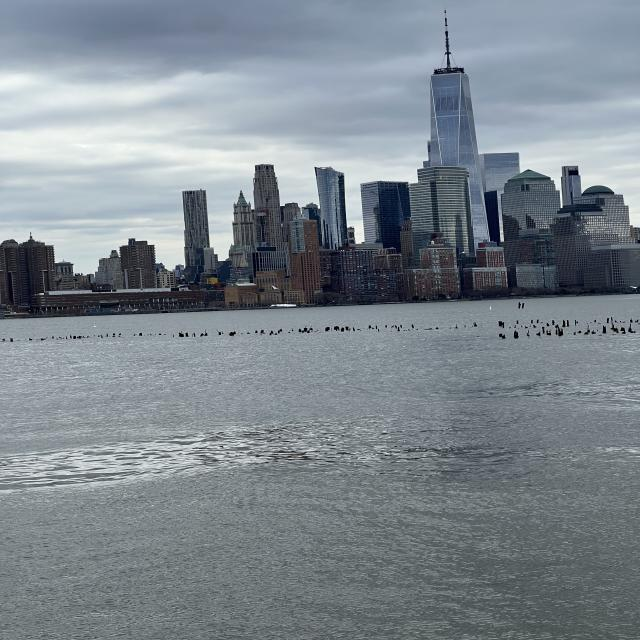WTC: (428, 9, 480, 168)
